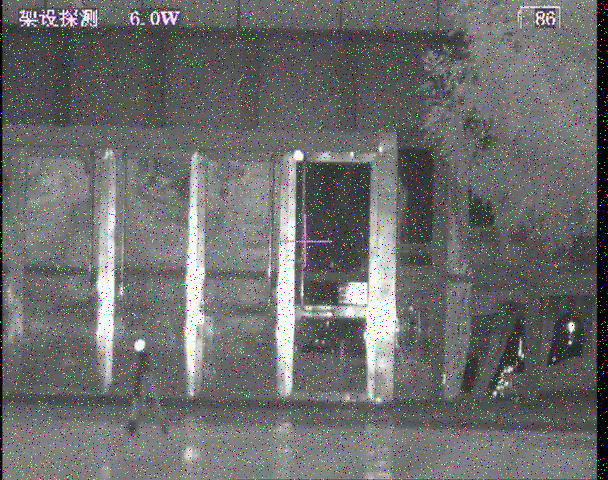my: (132, 338, 146, 352)
